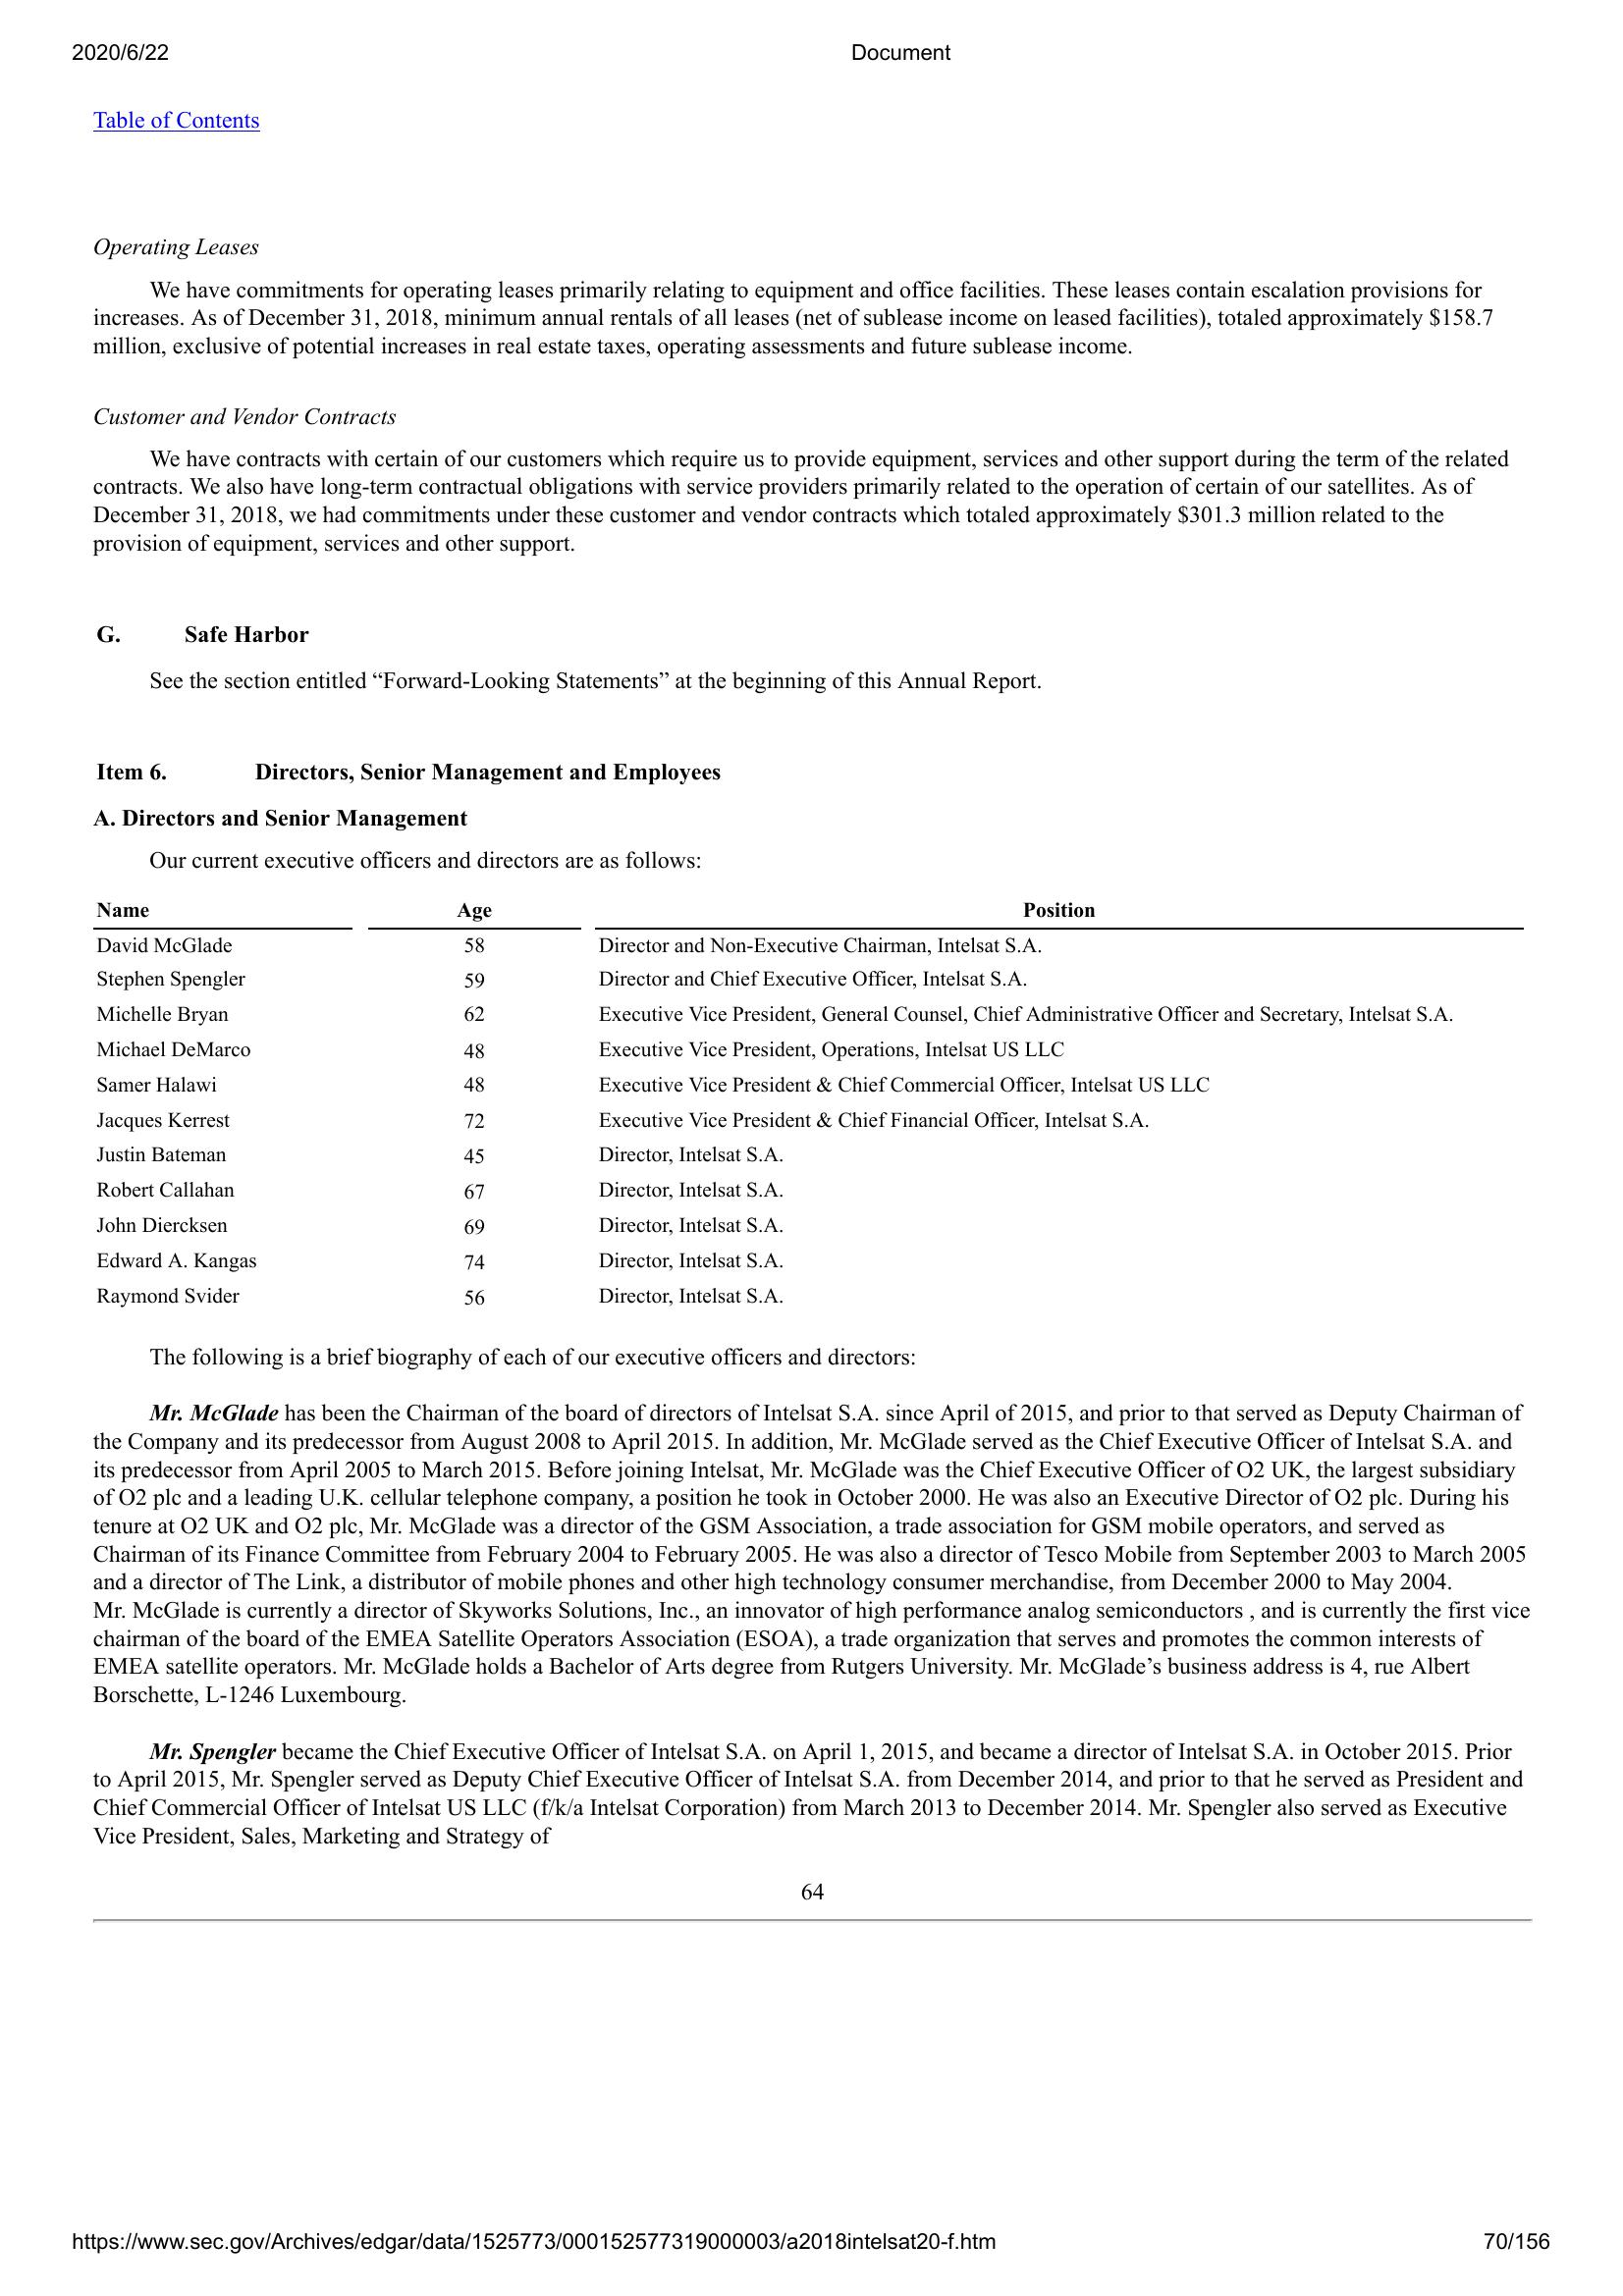table: (84, 890, 1533, 1308)
